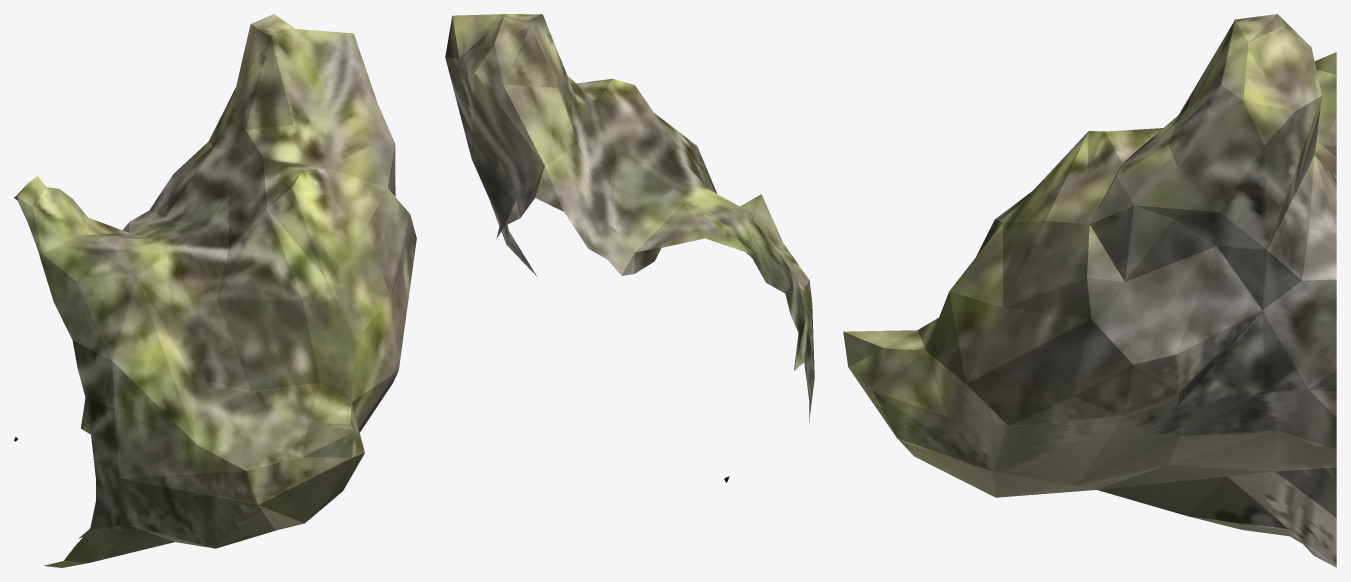
3 renders of one model, left to right at view 1: azimuth 30°, elevation 25°; view 2: azimuth 150°, elevation 25°; view 3: azimuth 270°, elevation 25°, orthographic. The views are drawn at different scales.
Size of the model in its own units: 0.8337 by 1.26 by 0.8765.
1 material, 1 textured.
